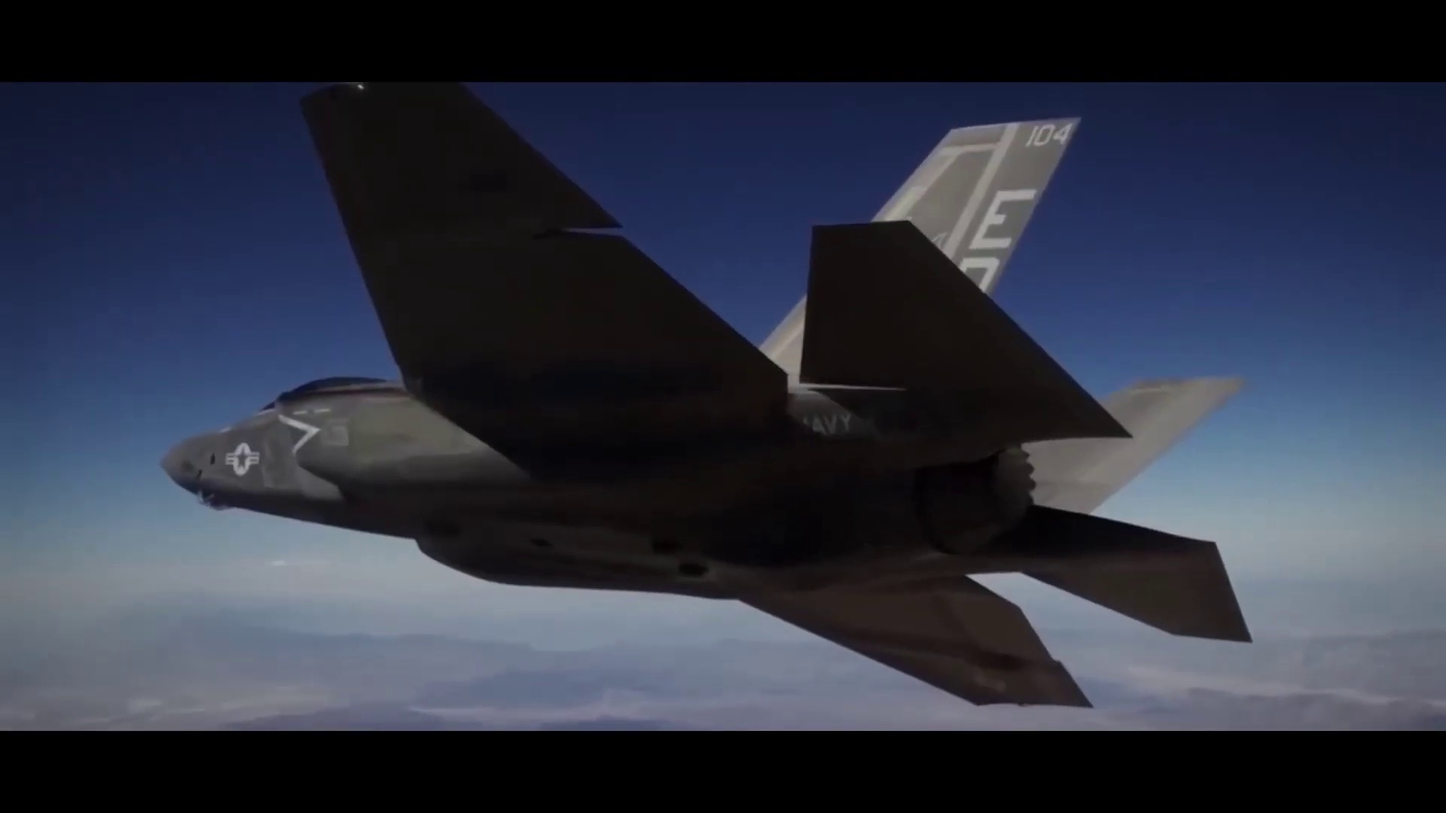F35: (158, 81, 1253, 708)
